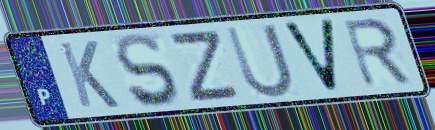K: (55, 39, 123, 110)
R: (339, 15, 415, 91)
S: (113, 31, 182, 110)
U: (221, 21, 296, 101)
V: (278, 16, 342, 96)
Z: (169, 27, 244, 105)
